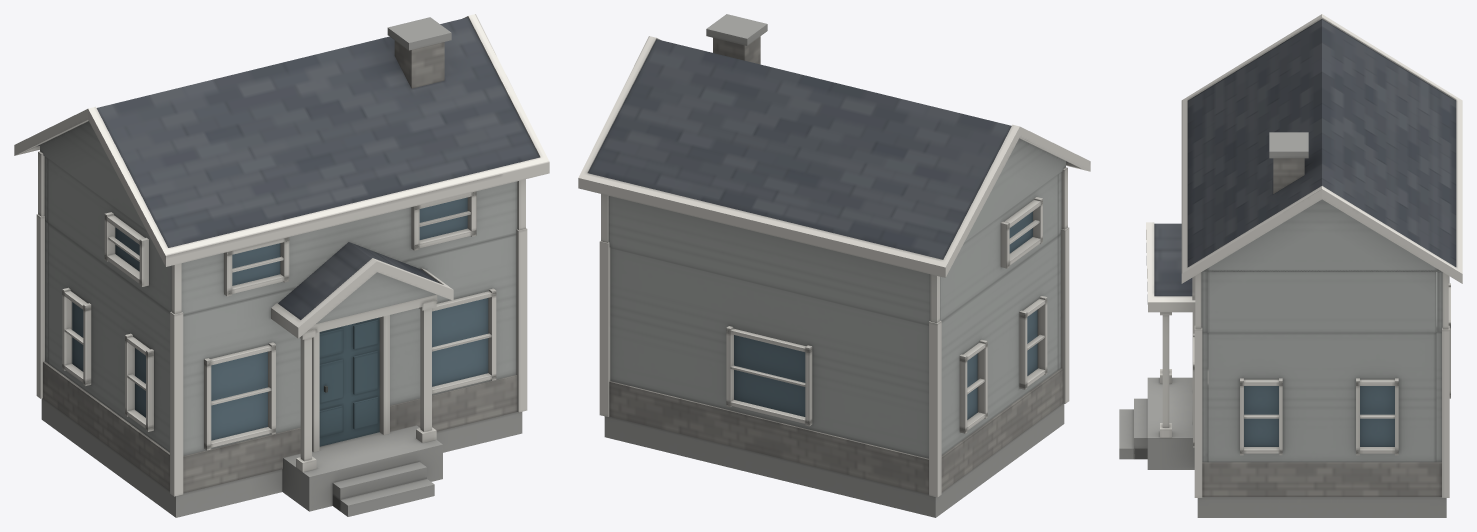
Rendered from House_10_Loft_Cottage.fbx.
The picture shows the model from 3 angles, left to right: view 1: azimuth 30°, elevation 25°; view 2: azimuth 150°, elevation 25°; view 3: azimuth 270°, elevation 25°; orthographic projection. The views are drawn at different scales.
Parts seen in each view (by area): view 1: House_10_Loft_Cottage; view 2: House_10_Loft_Cottage; view 3: House_10_Loft_Cottage.
Part boxes in pixels (x1,y1,x2,y2): House_10_Loft_Cottage: (14,14,549,517); House_10_Loft_Cottage: (578,14,1090,517); House_10_Loft_Cottage: (1119,14,1462,517).
Bounding box in the file's own units: 7.04 × 6.59 × 5.83.
Materials: 1 (1 with a texture image).
